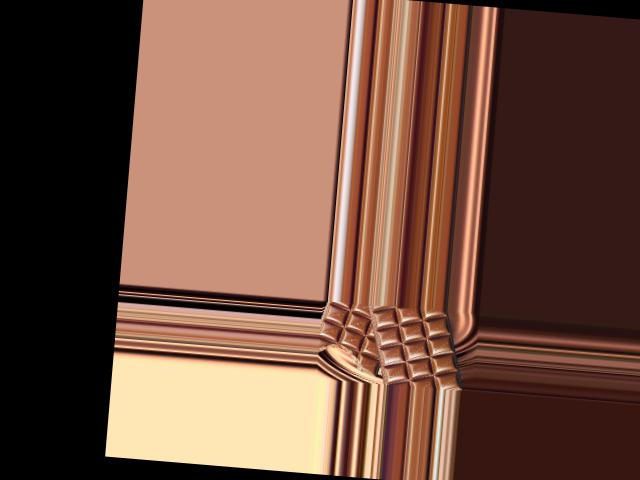chocolate: (361, 303, 470, 390)
